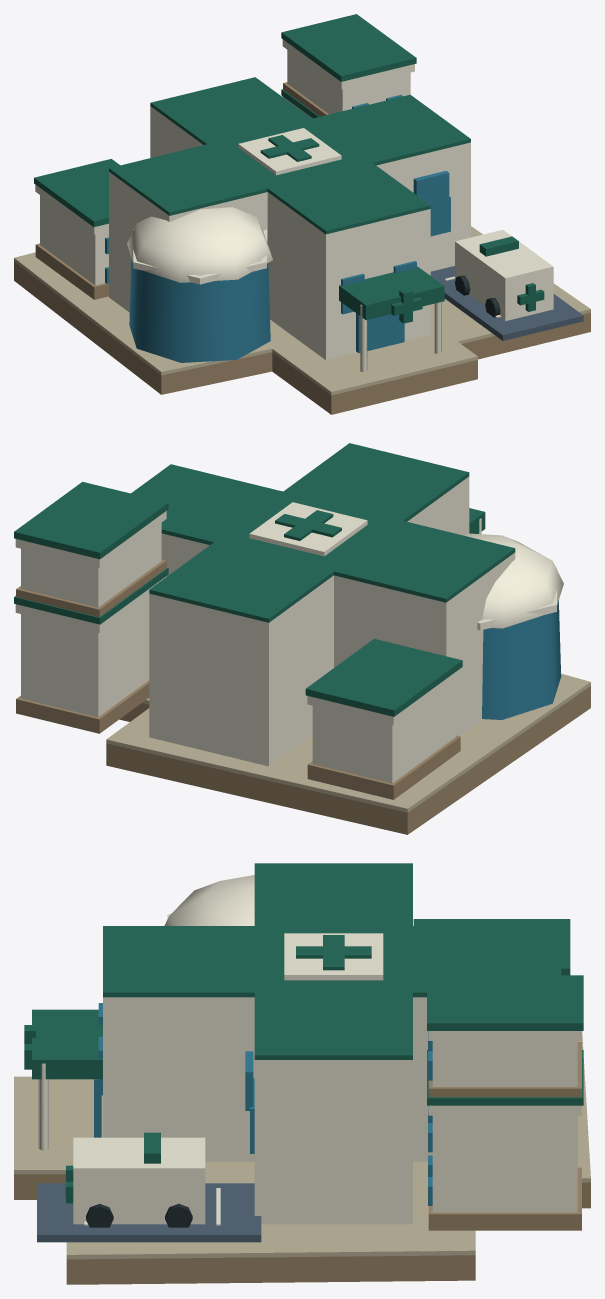
The model's file is medical-center-lv4.glb.
The picture shows the model from 3 angles, top to bottom: view 1: azimuth 30°, elevation 25°; view 2: azimuth 150°, elevation 25°; view 3: azimuth 270°, elevation 25°; orthographic projection. The views are drawn at different scales.
Visible parts, largest first — view 1: cross_clinic_jade, cross_clinic_white, foundation_paving, diagnostics_rotunda_glass, foundation_stoneDark, diagnostics_dome_white, ambulance_white, inpatient_upper_floor_roof_jade, inpatient_upper_floor_white, inpatient_wing_white, entry_canopy_jade, inpatient_wing_roof_jade (+10 smaller); view 2: cross_clinic_white, cross_clinic_jade, diagnostics_wing_white, foundation_stoneDark, foundation_paving, inpatient_wing_white, diagnostics_rotunda_glass, inpatient_wing_roof_jade, inpatient_upper_floor_white, inpatient_upper_floor_roof_jade, diagnostics_dome_white, roof_mark_white (+5 smaller); view 3: cross_clinic_white, cross_clinic_jade, foundation_paving, diagnostics_wing_white, foundation_stoneDark, ambulance_white, inpatient_upper_floor_roof_jade, inpatient_upper_floor_white, ambulance_lane_slate, entry_canopy_jade, roof_mark_white, diagnostics_dome_white (+8 smaller).
Part boxes in pixels (box(x1,y1,x2,y2)): cross_clinic_jade: box(109, 77, 470, 234); cross_clinic_white: box(109, 106, 470, 359); foundation_paving: box(14, 226, 590, 395); diagnostics_rotunda_glass: box(129, 258, 270, 362); foundation_stoneDark: box(14, 261, 590, 414); diagnostics_dome_white: box(127, 207, 272, 284); ambulance_white: box(455, 229, 553, 320); inpatient_upper_floor_roof_jade: box(281, 14, 416, 81); inpatient_upper_floor_white: box(282, 39, 414, 114); inpatient_wing_white: box(35, 184, 108, 285); entry_canopy_jade: box(339, 266, 444, 320); inpatient_wing_roof_jade: box(34, 159, 120, 226); cross_clinic_white: box(149, 476, 515, 766); cross_clinic_jade: box(131, 443, 515, 622); diagnostics_wing_white: box(15, 576, 166, 717); foundation_stoneDark: box(106, 686, 590, 834); foundation_paving: box(106, 673, 590, 812); inpatient_wing_white: box(307, 668, 460, 783); diagnostics_rotunda_glass: box(482, 600, 561, 719); inpatient_wing_roof_jade: box(305, 638, 462, 716); inpatient_upper_floor_white: box(15, 511, 166, 607); inpatient_upper_floor_roof_jade: box(14, 481, 168, 559); diagnostics_dome_white: box(463, 533, 563, 630); roof_mark_white: box(249, 502, 367, 556); cross_clinic_white: box(103, 997, 432, 1224); cross_clinic_jade: box(103, 863, 561, 1059); foundation_paving: box(14, 1031, 590, 1259); diagnostics_wing_white: box(428, 1105, 581, 1212); foundation_stoneDark: box(14, 1174, 590, 1284); ambulance_white: box(73, 1137, 205, 1224); inpatient_upper_floor_roof_jade: box(427, 975, 583, 1030); inpatient_upper_floor_white: box(428, 1031, 581, 1086); ambulance_lane_slate: box(37, 1183, 261, 1242); entry_canopy_jade: box(32, 1009, 102, 1079); roof_mark_white: box(284, 933, 383, 980); diagnostics_dome_white: box(164, 875, 254, 925).
Bounding box in the file's own units: 1 × 0.45 × 0.9887.
